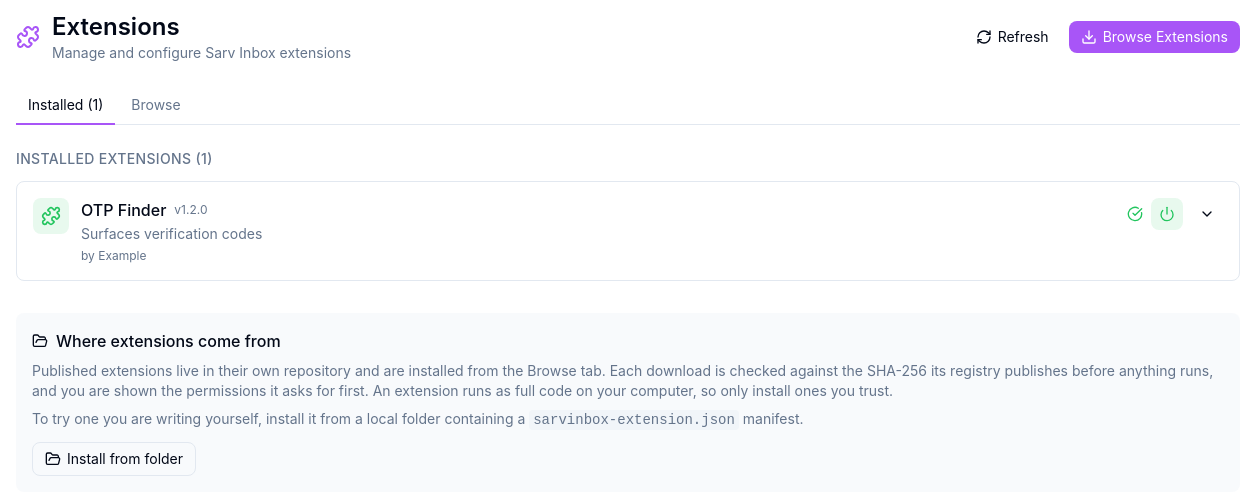
Test: ExtensionManager tooltips › names the icon-only power toggle through the shared Tooltip, not title=
Hover over the button named "Disable extension": (1167, 214) [1151, 198, 1183, 230]
Wait 100 ms
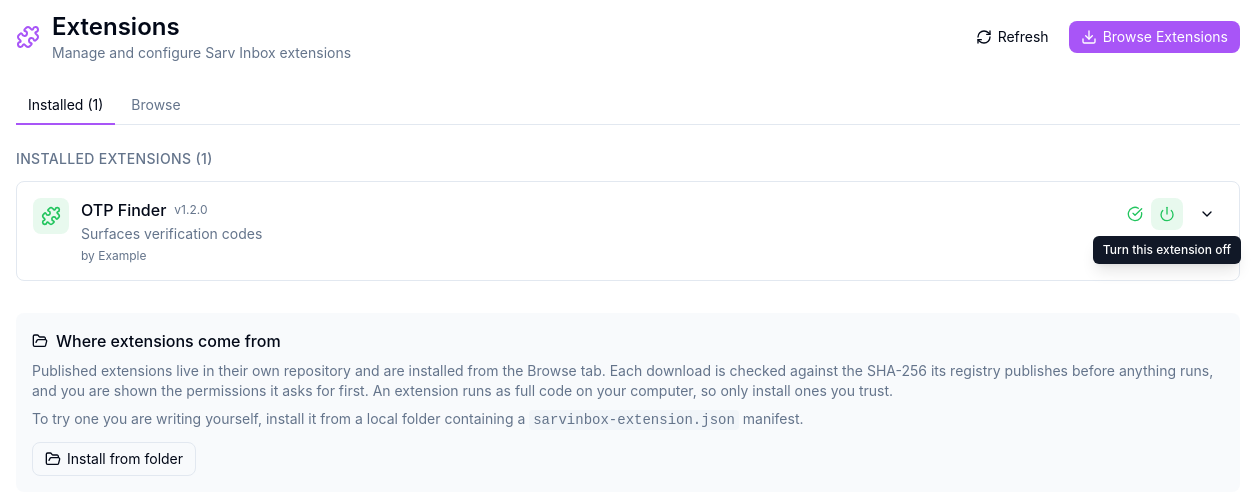
expect the text "Turn this extension off" is shown: met, box [1103, 242, 1231, 258]
